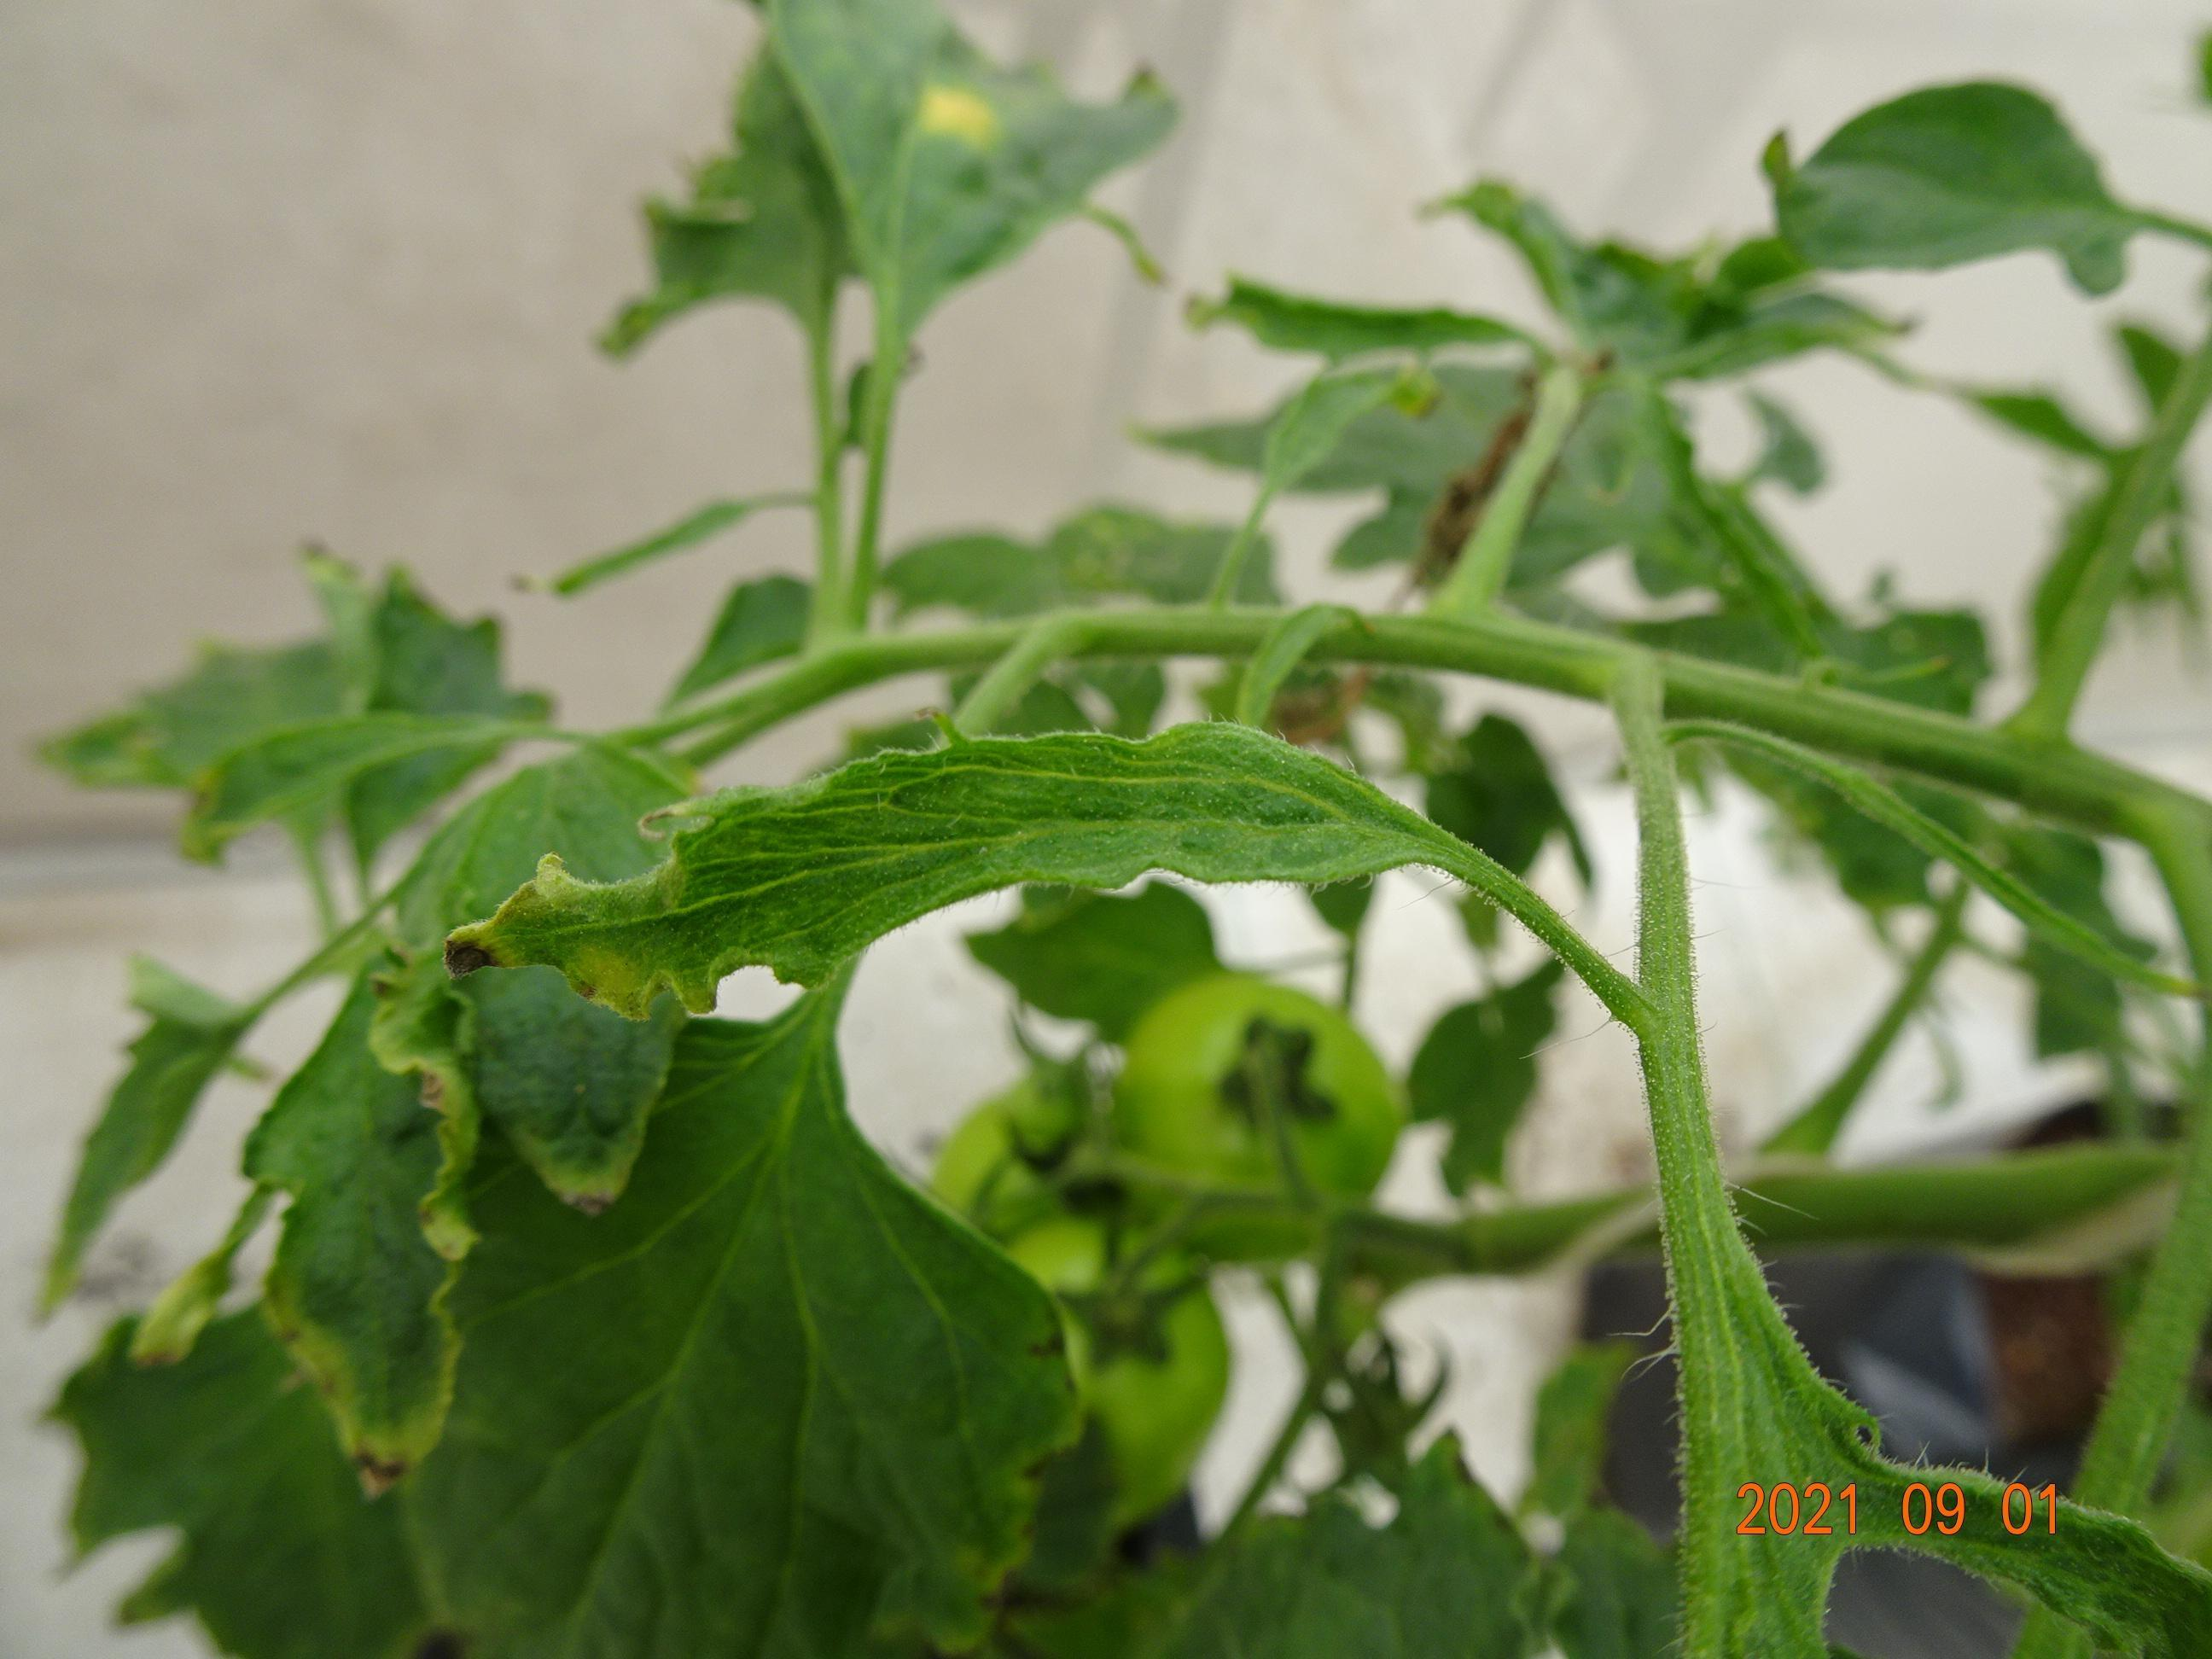Hoja rugoso: (439, 720, 1569, 1019)
Pedunculo rugoso: (1611, 660, 1867, 1481)
